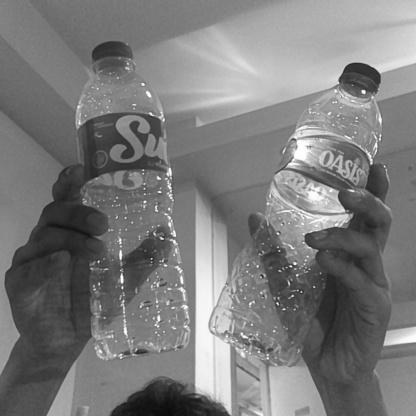plastic_bottles: (209, 60, 383, 372), (78, 39, 194, 362)
